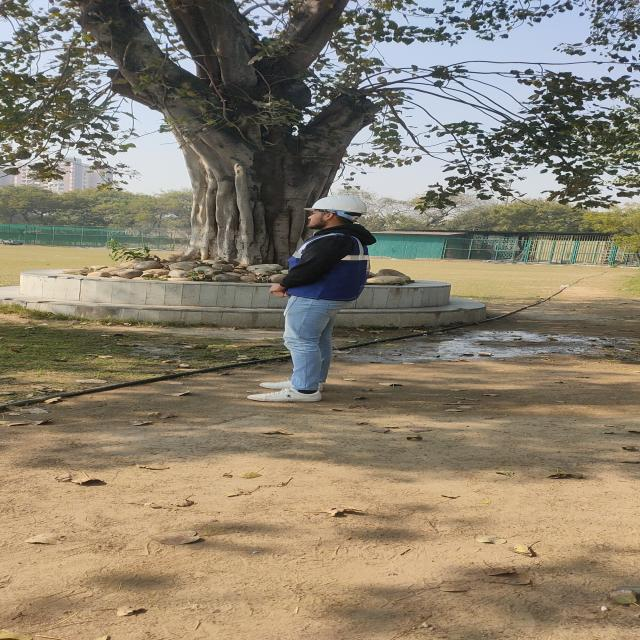safe: (261, 196, 370, 401)
